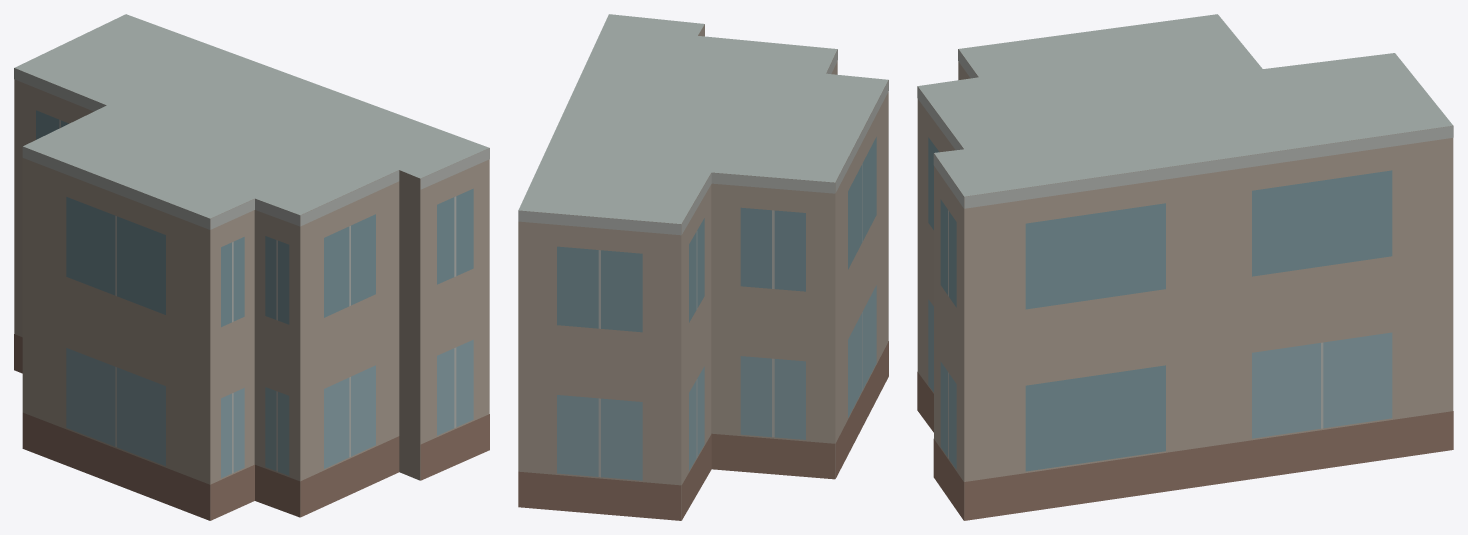
The model's file is survey-upis-33033607.glb.
3 renders of one model, left to right at view 1: azimuth 30°, elevation 25°; view 2: azimuth 150°, elevation 25°; view 3: azimuth 270°, elevation 25°, orthographic. The views are drawn at different scales.
Parts seen in each view (by area): view 1: survey-upis-33033607.tmp; view 2: survey-upis-33033607.tmp; view 3: survey-upis-33033607.tmp.
Part boxes in pixels (box(x1,y1,x2,y2)): survey-upis-33033607.tmp: box(14, 14, 489, 520); survey-upis-33033607.tmp: box(518, 14, 888, 520); survey-upis-33033607.tmp: box(917, 14, 1453, 520).
Size of the model in its own units: 7.86 by 6.5 by 9.75.
